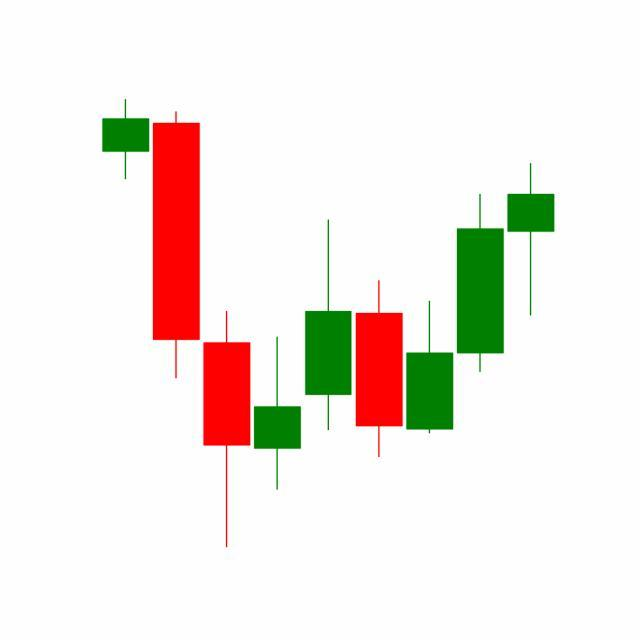Hikkake Pattern: (252, 192, 506, 494)
